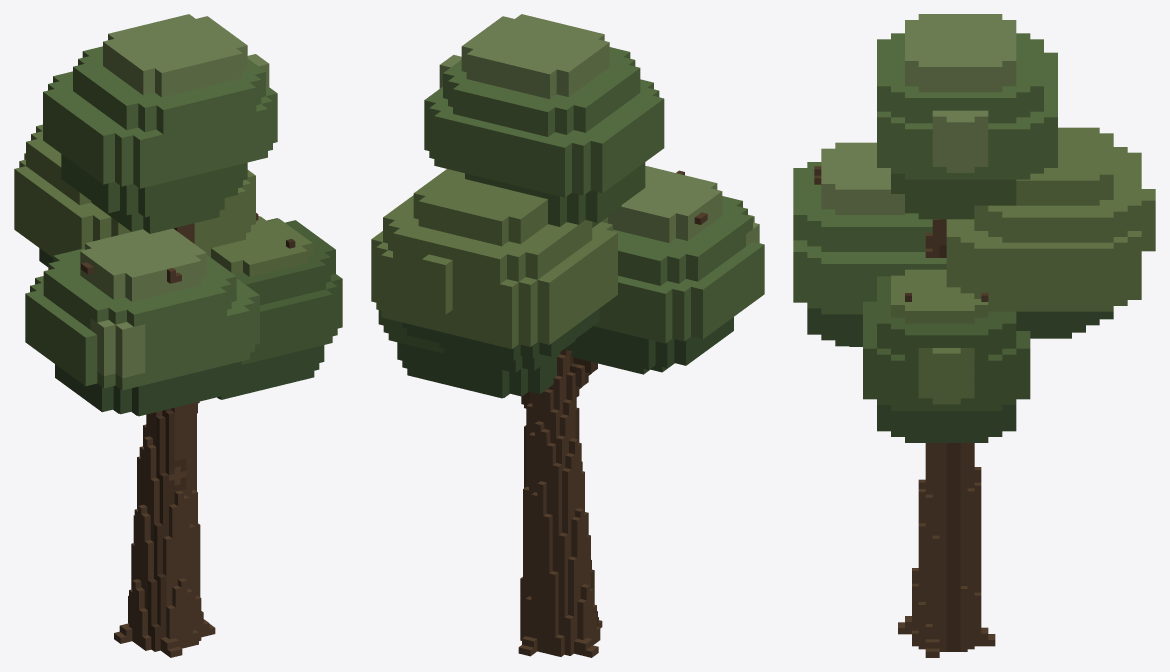
The model's file is apple_sapling_spring.glb.
3 renders of one model, left to right at view 1: azimuth 30°, elevation 25°; view 2: azimuth 150°, elevation 25°; view 3: azimuth 270°, elevation 25°, orthographic. The views are drawn at different scales.
Parts seen in each view (by area): view 1: VoxelVisual; view 2: VoxelVisual; view 3: VoxelVisual.
Boxes of the visible parts, bbox=[...] form: VoxelVisual: bbox=[14, 14, 342, 657]; VoxelVisual: bbox=[371, 14, 764, 657]; VoxelVisual: bbox=[793, 14, 1155, 657].
Size of what is drawn, in the model's own units: 3.25 by 6 by 3.25.
